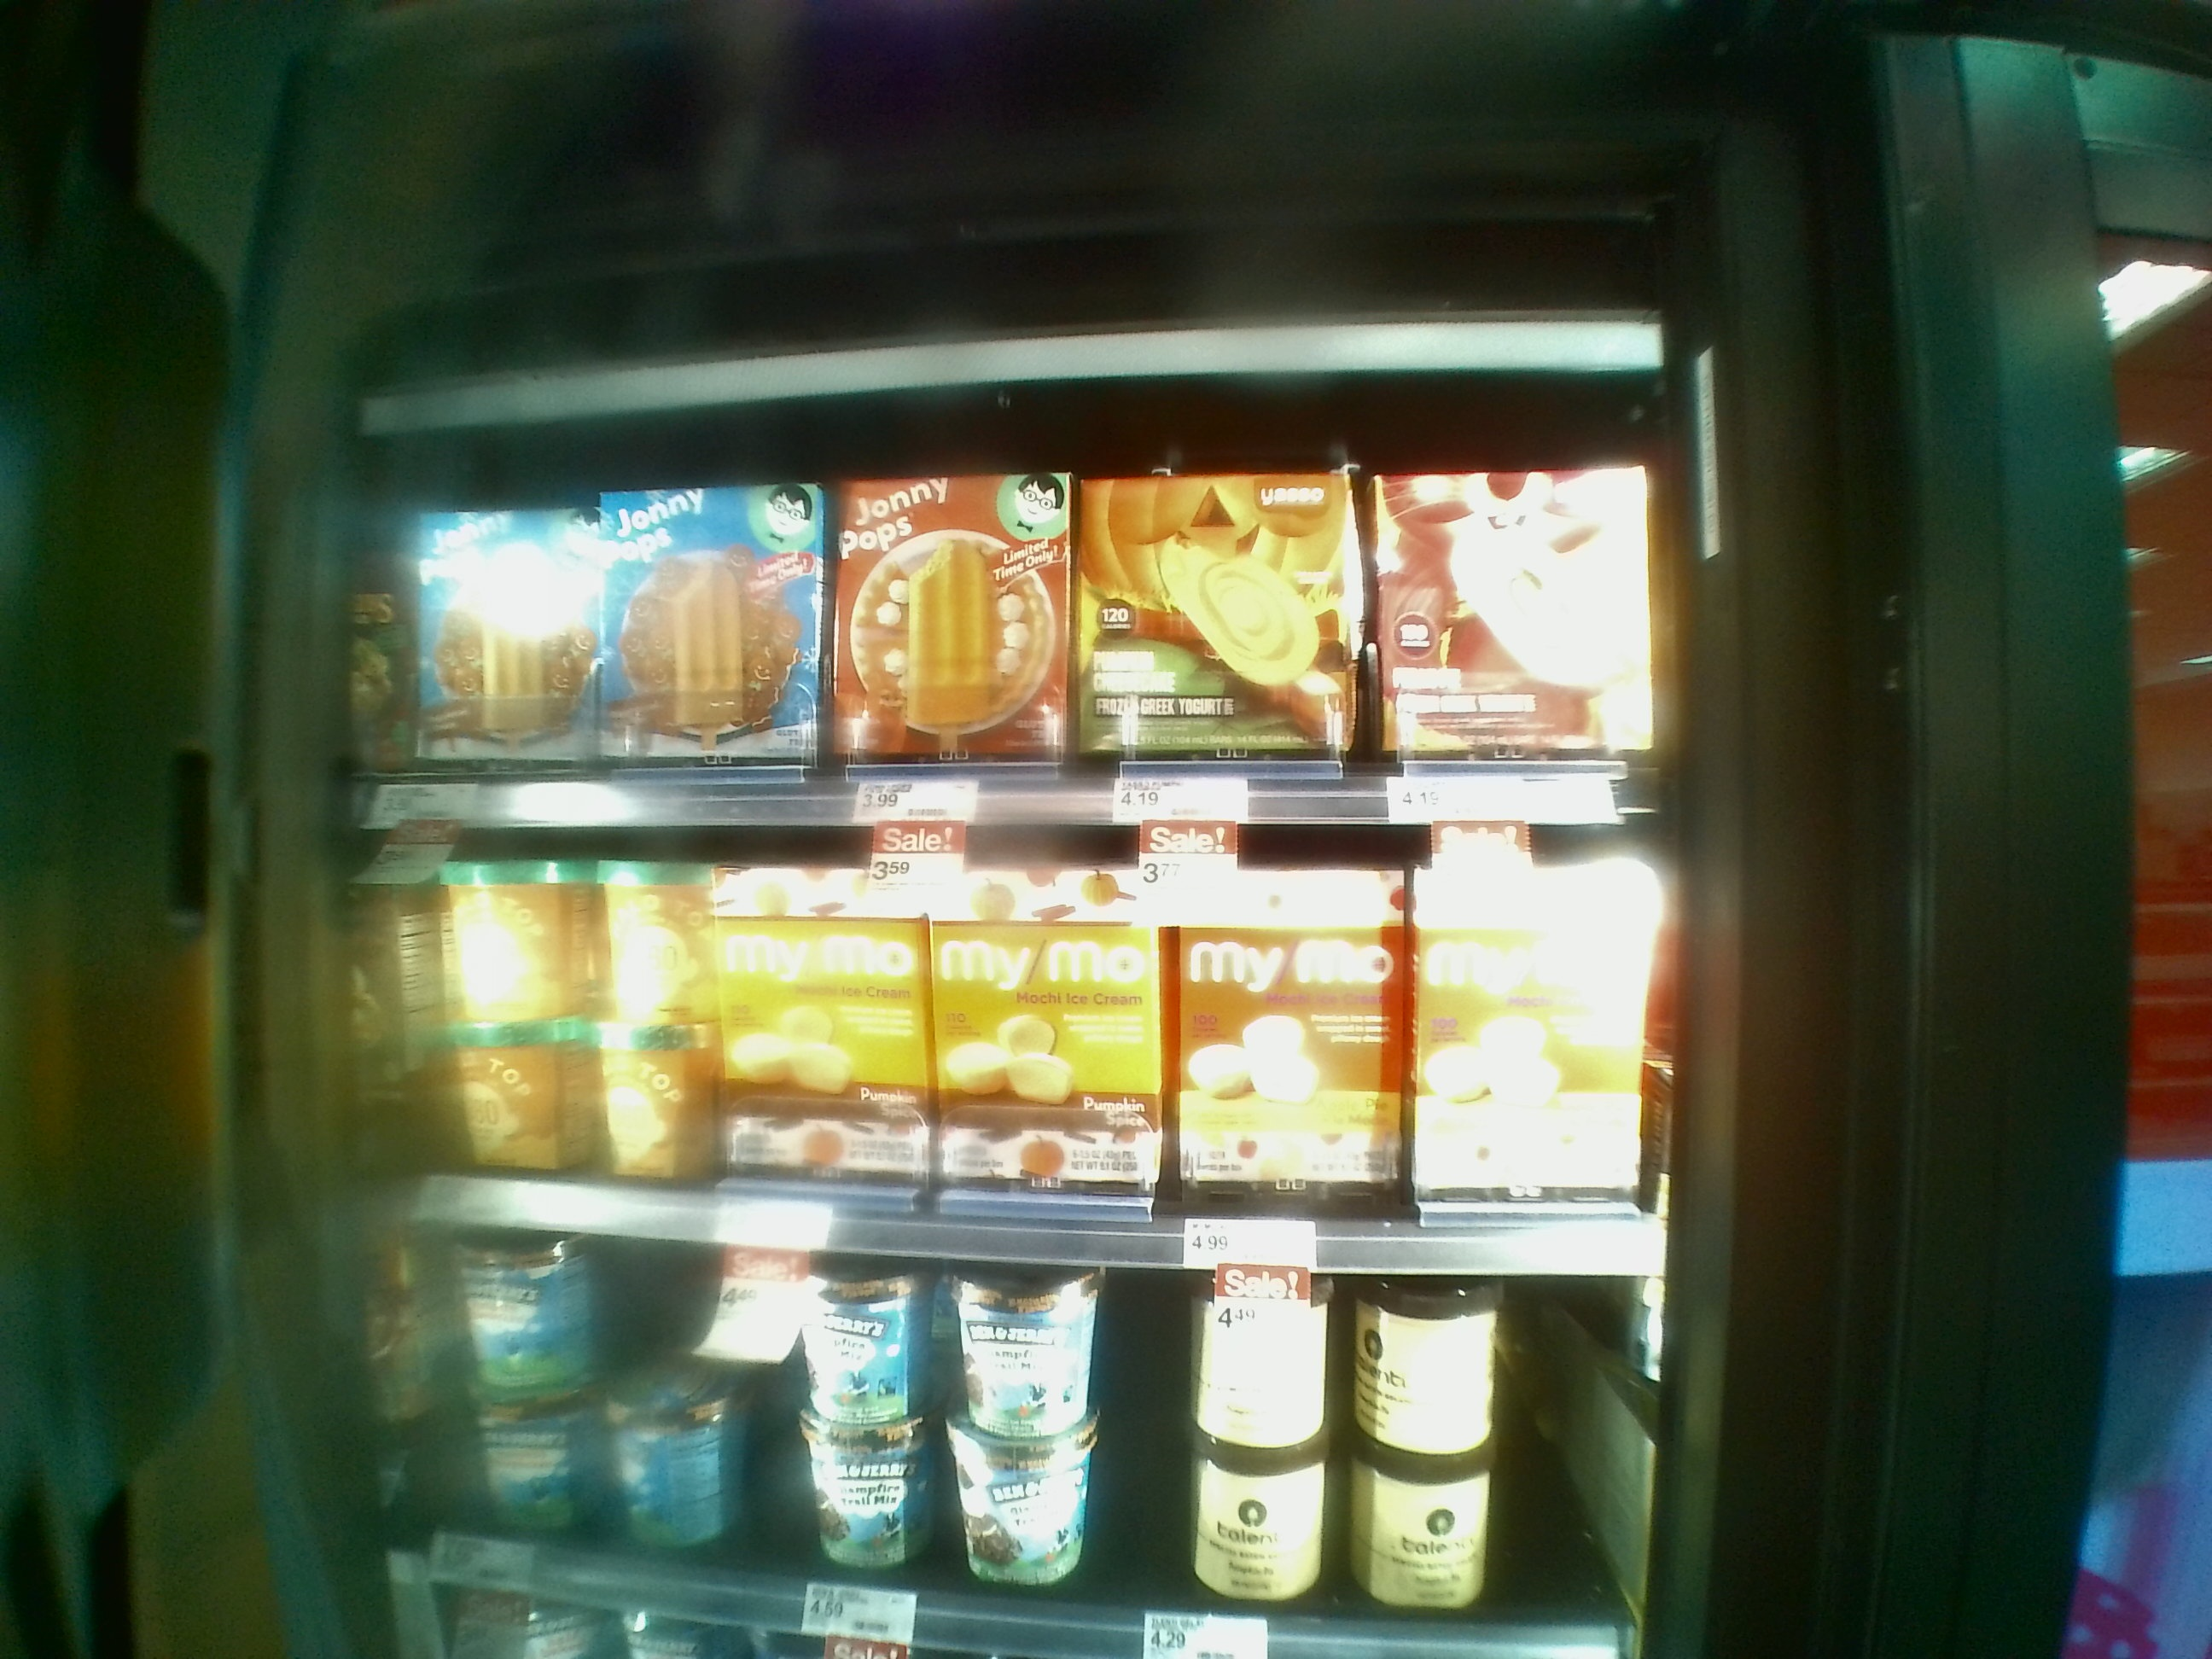shelf: (366, 812, 1683, 1272), (366, 429, 1689, 816)
